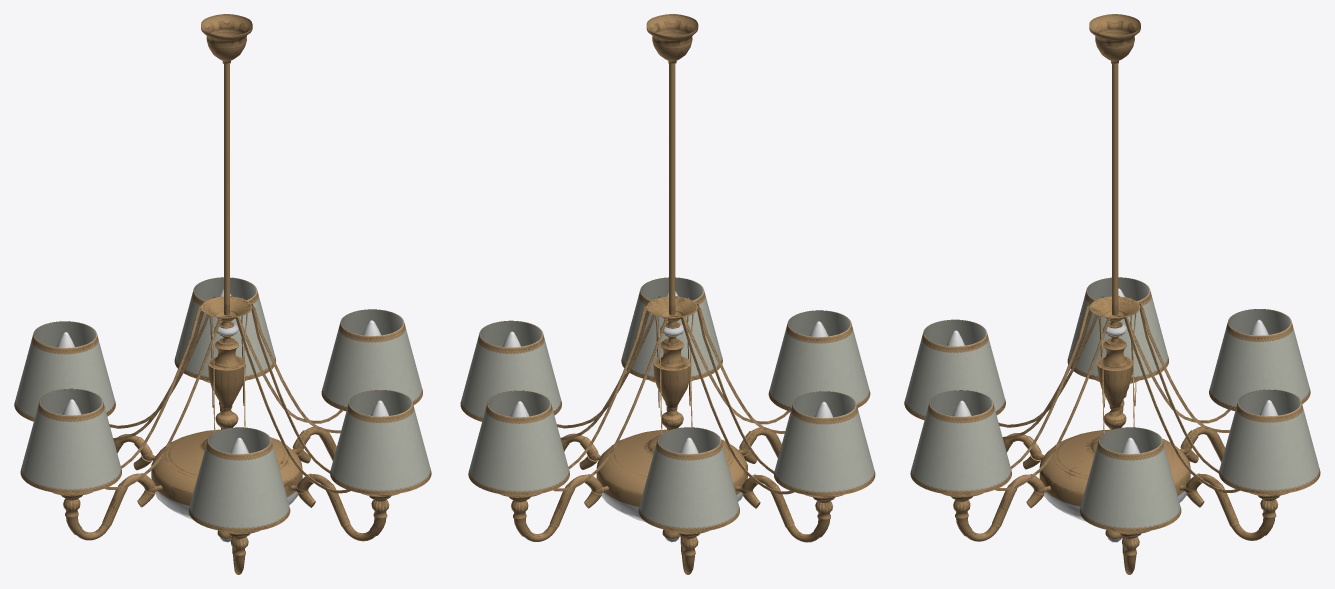
The model's file is lustre.glb.
The picture shows the model from 3 angles, left to right: view 1: azimuth 30°, elevation 25°; view 2: azimuth 150°, elevation 25°; view 3: azimuth 270°, elevation 25°; orthographic projection.
Visible parts, largest first — view 1: Chandelier_02; view 2: Chandelier_02; view 3: Chandelier_02.
Part boxes in pixels (left/top/right/bottom): Chandelier_02: left=14, top=14, right=431, bottom=574; Chandelier_02: left=460, top=14, right=875, bottom=574; Chandelier_02: left=904, top=14, right=1320, bottom=574.
Bounding box in the file's own units: 0.679 × 0.8481 × 0.6191.
2 materials, 1 textured.
